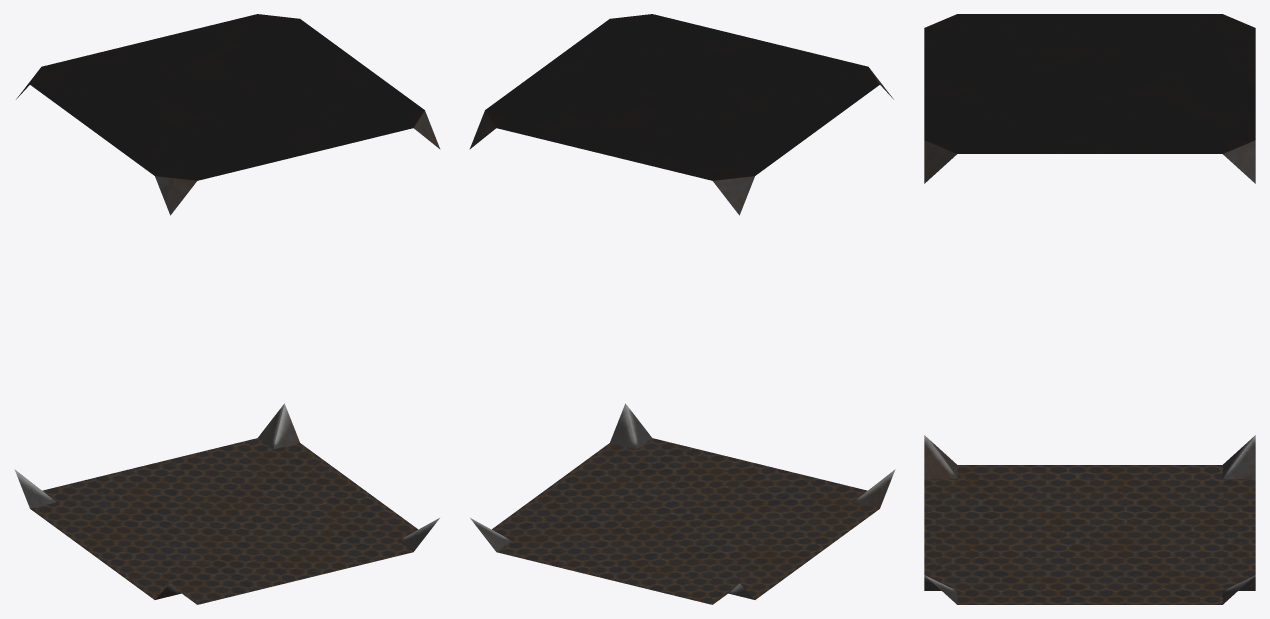
File: FloorCrossing.fbx
3 renders of one model, left to right at view 1: azimuth 30°, elevation 25°; view 2: azimuth 150°, elevation 25°; view 3: azimuth 270°, elevation 25°, orthographic. The views are drawn at different scales.
Parts seen in each view (by area): view 1: FloorCrossing; view 2: FloorCrossing; view 3: FloorCrossing.
Part boxes in pixels (<box>): FloorCrossing: <box>14,14,440,604</box>; FloorCrossing: <box>469,14,895,604</box>; FloorCrossing: <box>924,14,1255,604</box>.
Bounding box in the file's own units: 200 × 300 × 200.
Materials: 1 (1 with a texture image).
